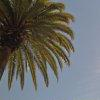Palm tree: (2, 1, 68, 87)
